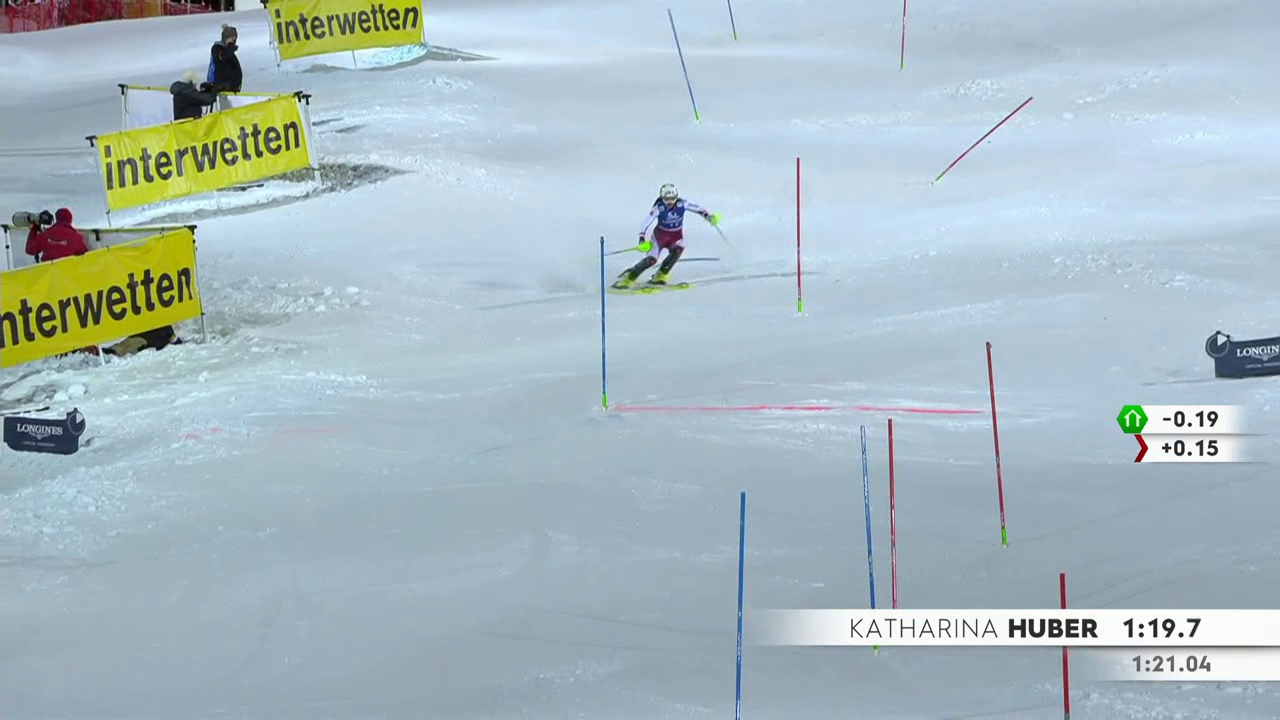interwetten: (257, 1, 431, 59)
longines: (1214, 331, 1279, 376)
raiffeisen: (6, 240, 183, 384), (94, 105, 316, 205)
